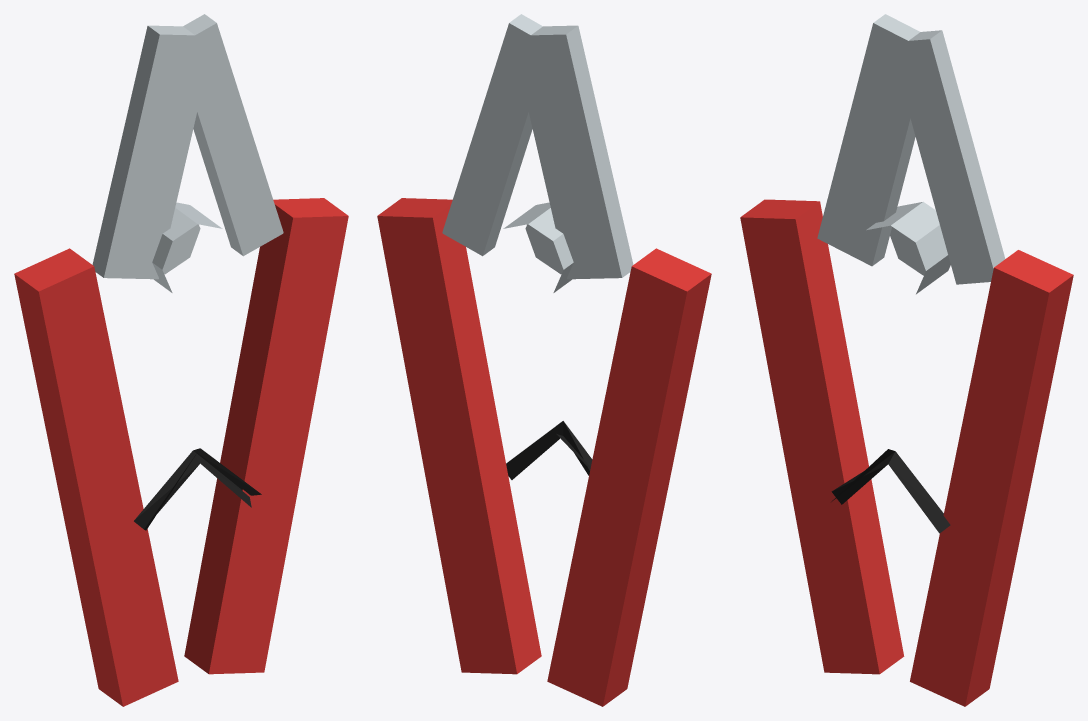
The model's file is sekator.glb.
3 renders of one model, left to right at view 1: azimuth 30°, elevation 25°; view 2: azimuth 150°, elevation 25°; view 3: azimuth 330°, elevation 25°, orthographic.
Visible parts, largest first — view 1: sekator; view 2: sekator; view 3: sekator.
Boxes of the visible parts, bbox=[...] form: sekator: bbox=[14, 14, 348, 706]; sekator: bbox=[377, 14, 711, 706]; sekator: bbox=[740, 14, 1073, 706].
Bounding box in the file's own units: 0.2188 × 0.4434 × 0.046.
